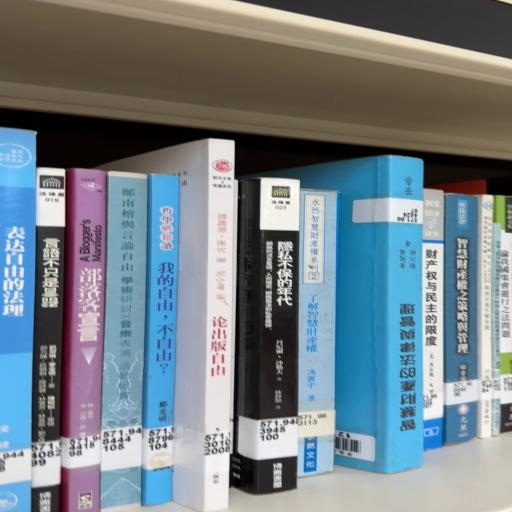reverse: (264, 156, 424, 474)
